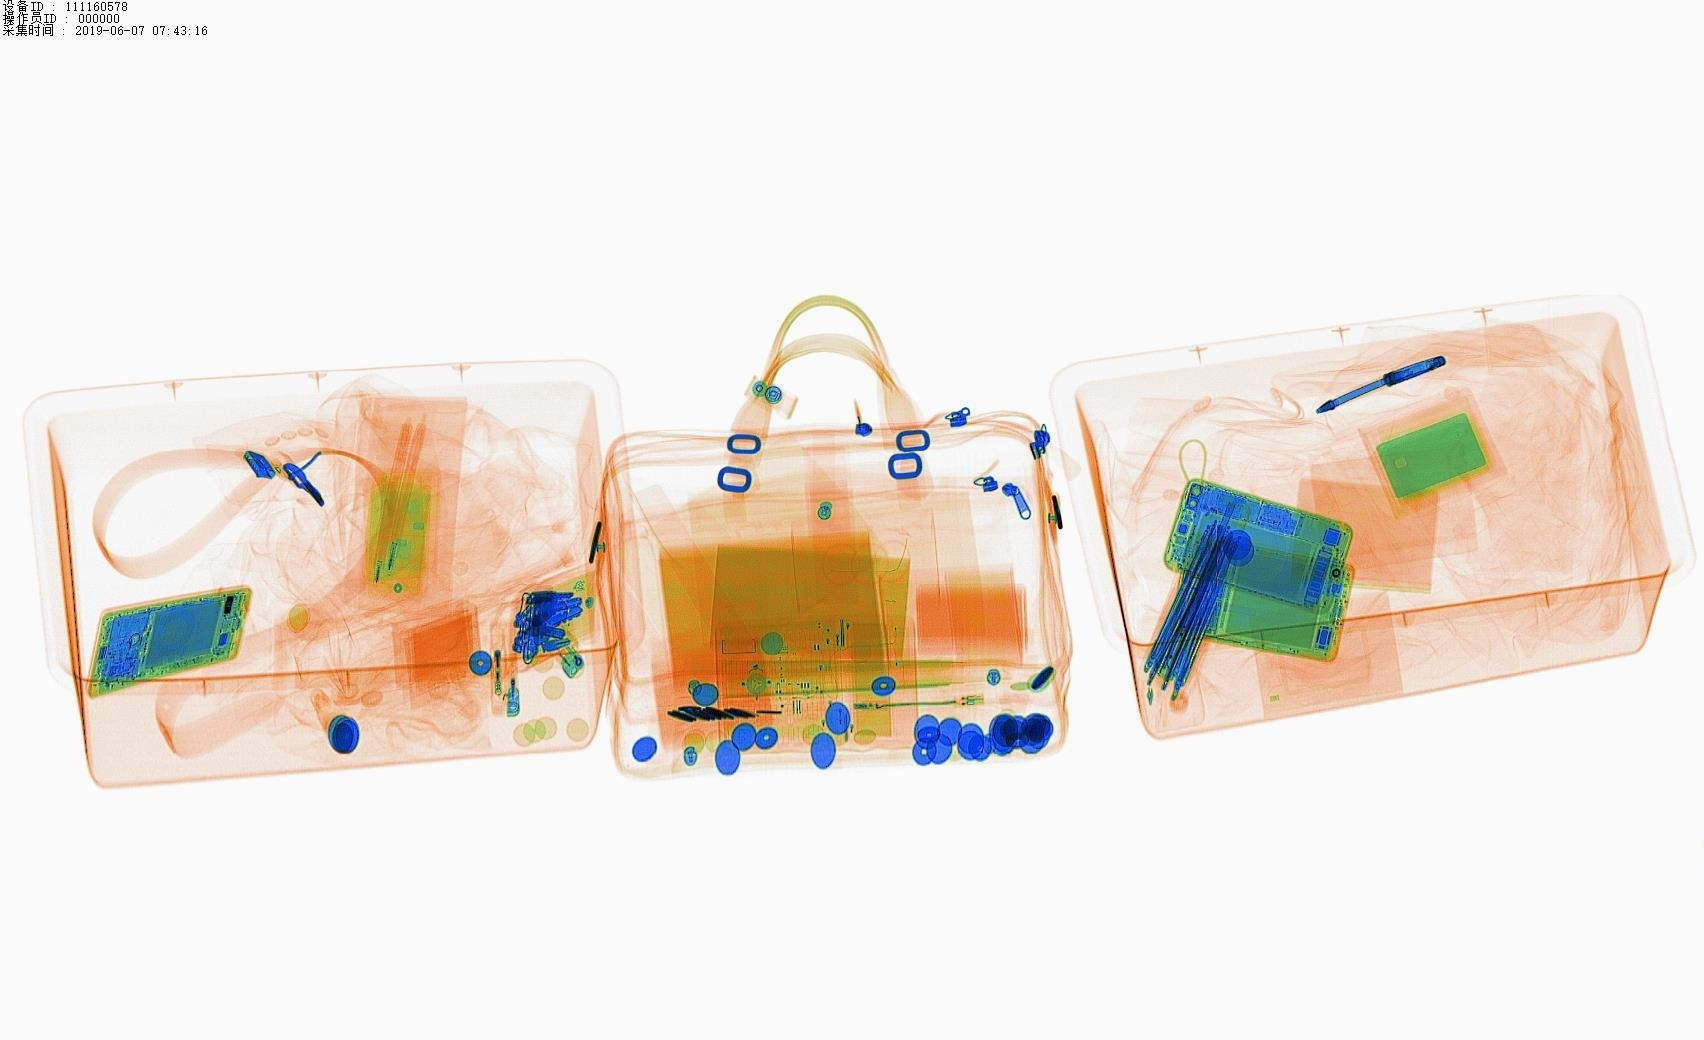NonmetallicFire: (480, 596, 540, 739), (532, 605, 602, 690)
